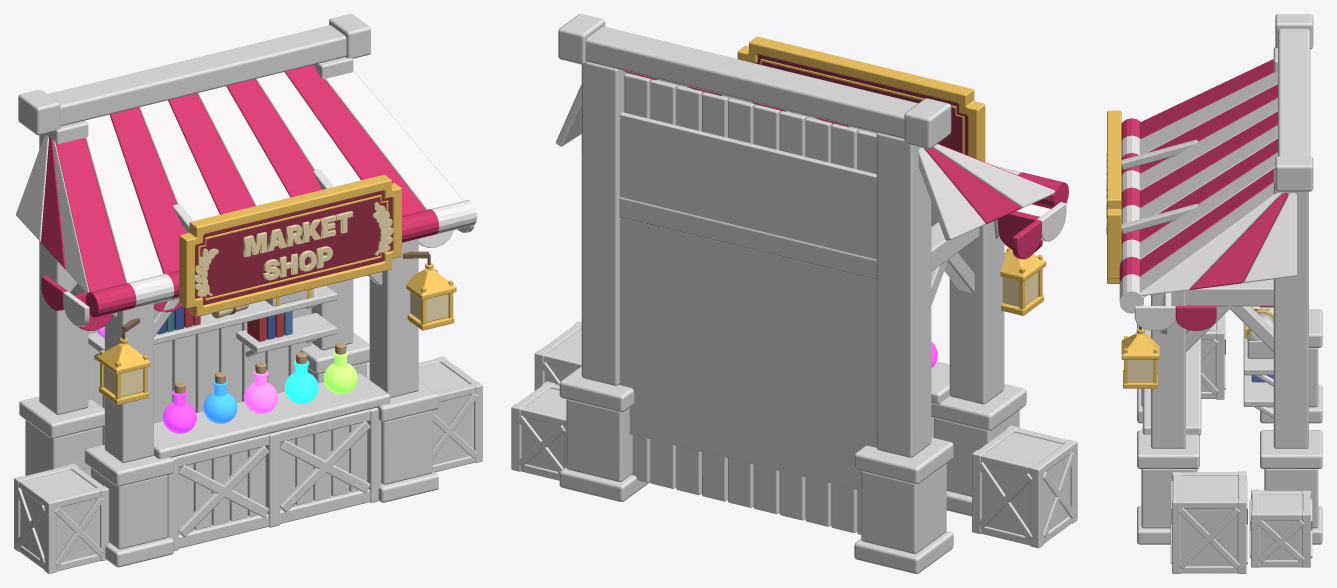
File: Lobby_MarketShop.fbx
3 renders of one model, left to right at view 1: azimuth 30°, elevation 25°; view 2: azimuth 150°, elevation 25°; view 3: azimuth 270°, elevation 25°, orthographic. The views are drawn at different scales.
Parts seen in each view (by area): view 1: Lobby_MarketShop__WoodBeam, Lobby_MarketShop__AwningWhite, Lobby_MarketShop__AwningRed, Lobby_MarketShop__WoodPost, Lobby_MarketShop__Marble, Lobby_MarketShop__Gold, Lobby_MarketShop__WoodCrate, Lobby_MarketShop__SignMaroon, Lobby_MarketShop__WoodBackWall, Lobby_MarketShop__WoodPanel, Lobby_MarketShop__SignText, Lobby_MarketShop__WoodCrateV (+8 smaller); view 2: Lobby_MarketShop__WoodBackWall, Lobby_MarketShop__WoodPost, Lobby_MarketShop__Marble, Lobby_MarketShop__WoodBeam, Lobby_MarketShop__WoodCrate, Lobby_MarketShop__Gold, Lobby_MarketShop__AwningWhite, Lobby_MarketShop__AwningRed, Lobby_MarketShop__WoodCrateV, Lobby_MarketShop__SignMaroon, Lobby_MarketShop__LanternGlow; view 3: Lobby_MarketShop__AwningWhite, Lobby_MarketShop__AwningRed, Lobby_MarketShop__WoodPost, Lobby_MarketShop__WoodBeam, Lobby_MarketShop__WoodCrate, Lobby_MarketShop__Marble, Lobby_MarketShop__Gold, Lobby_MarketShop__WoodCrateV, Lobby_MarketShop__LanternGlow.
Boxes of the visible parts, x1=… form: Lobby_MarketShop__WoodBeam: x1=48, y1=25, x2=390, y2=548; Lobby_MarketShop__AwningWhite: x1=16, y1=70, x2=476, y2=326; Lobby_MarketShop__AwningRed: x1=41, y1=65, x2=439, y2=330; Lobby_MarketShop__WoodPost: x1=18, y1=14, x2=418, y2=550; Lobby_MarketShop__Marble: x1=19, y1=332, x2=438, y2=567; Lobby_MarketShop__Gold: x1=96, y1=175, x2=456, y2=404; Lobby_MarketShop__WoodCrate: x1=16, y1=358, x2=477, y2=571; Lobby_MarketShop__SignMaroon: x1=195, y1=190, x2=392, y2=305; Lobby_MarketShop__WoodBackWall: x1=88, y1=308, x2=311, y2=444; Lobby_MarketShop__WoodPanel: x1=178, y1=421, x2=367, y2=533; Lobby_MarketShop__SignText: x1=195, y1=202, x2=393, y2=296; Lobby_MarketShop__WoodCrateV: x1=14, y1=356, x2=482, y2=573; Lobby_MarketShop__WoodBackWall: x1=618, y1=73, x2=876, y2=534; Lobby_MarketShop__WoodPost: x1=558, y1=14, x2=1004, y2=457; Lobby_MarketShop__Marble: x1=559, y1=366, x2=1026, y2=573; Lobby_MarketShop__WoodBeam: x1=585, y1=26, x2=994, y2=404; Lobby_MarketShop__WoodCrate: x1=517, y1=325, x2=1075, y2=545; Lobby_MarketShop__Gold: x1=737, y1=36, x2=1046, y2=315; Lobby_MarketShop__AwningWhite: x1=556, y1=70, x2=1066, y2=241; Lobby_MarketShop__AwningRed: x1=624, y1=71, x2=1068, y2=259; Lobby_MarketShop__WoodCrateV: x1=511, y1=321, x2=1077, y2=548; Lobby_MarketShop__SignMaroon: x1=749, y1=54, x2=967, y2=155; Lobby_MarketShop__LanternGlow: x1=1002, y1=272, x2=1038, y2=306; Lobby_MarketShop__AwningWhite: x1=1119, y1=71, x2=1296, y2=335; Lobby_MarketShop__AwningRed: x1=1119, y1=59, x2=1288, y2=330; Lobby_MarketShop__WoodPost: x1=1151, y1=14, x2=1313, y2=448; Lobby_MarketShop__WoodBeam: x1=1121, y1=28, x2=1310, y2=435; Lobby_MarketShop__WoodCrate: x1=1170, y1=315, x2=1312, y2=573; Lobby_MarketShop__Marble: x1=1137, y1=309, x2=1322, y2=544; Lobby_MarketShop__Gold: x1=1107, y1=110, x2=1273, y2=388; Lobby_MarketShop__WoodCrateV: x1=1172, y1=314, x2=1310, y2=573; Lobby_MarketShop__LanternGlow: x1=1128, y1=360, x2=1153, y2=382.
Size of the model in its own units: 16.44 by 14.43 by 7.4.
